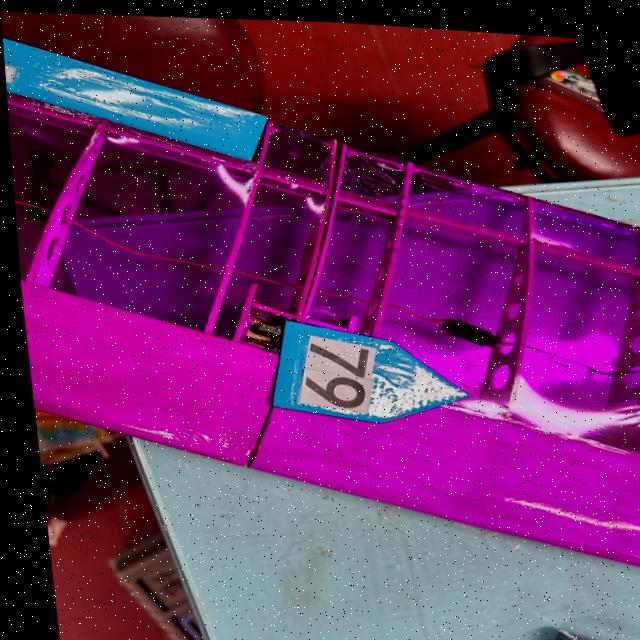board: (266, 315, 464, 420)
